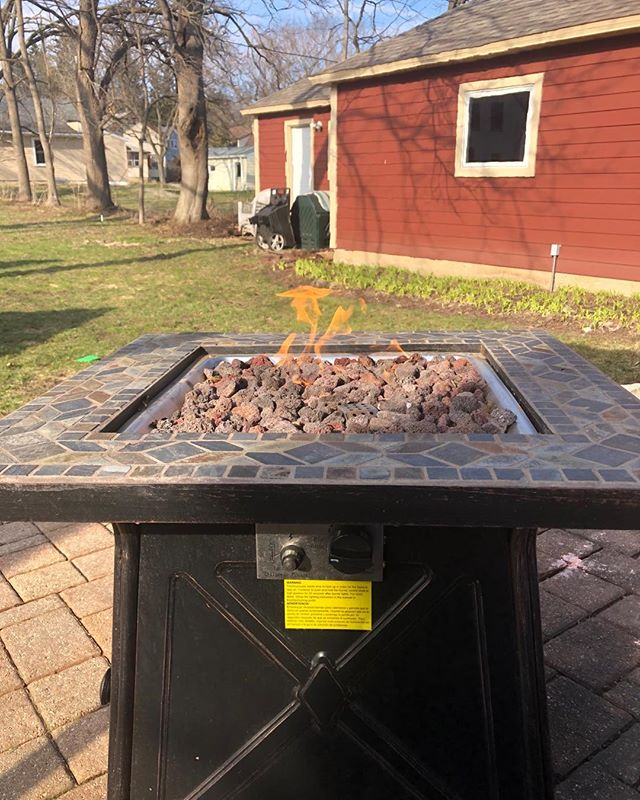building: (241, 1, 640, 269)
fireplace: (86, 302, 570, 485)
grass: (1, 189, 257, 382)
tree: (133, 4, 268, 239), (1, 1, 135, 218)
